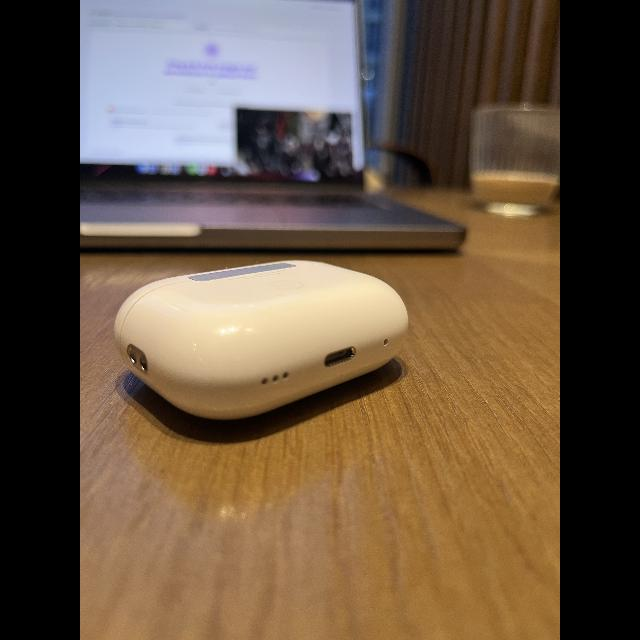AirPods Pro: (110, 251, 410, 449)
